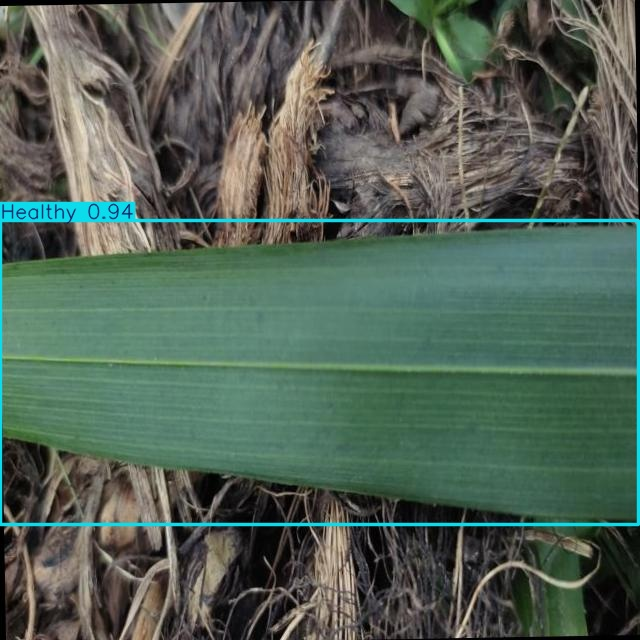Healthy: (1, 221, 639, 524)
